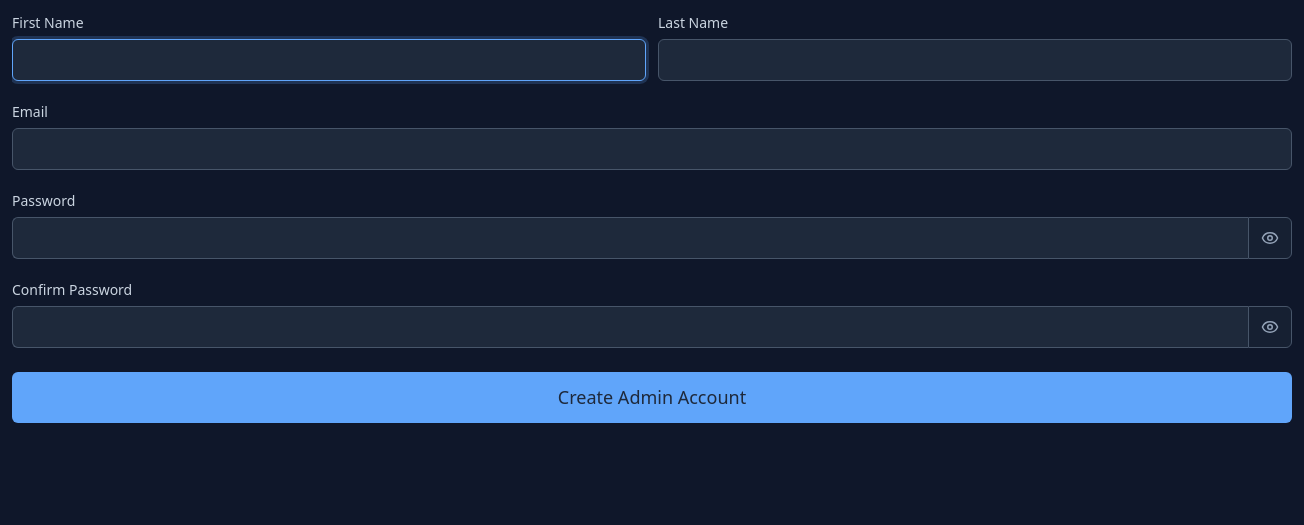
Test: SetupForm › validation › shows password error when submitted empty
Type "admin@test.com" into the field labelled "Email" at (652,149), box [12,128,1292,170]
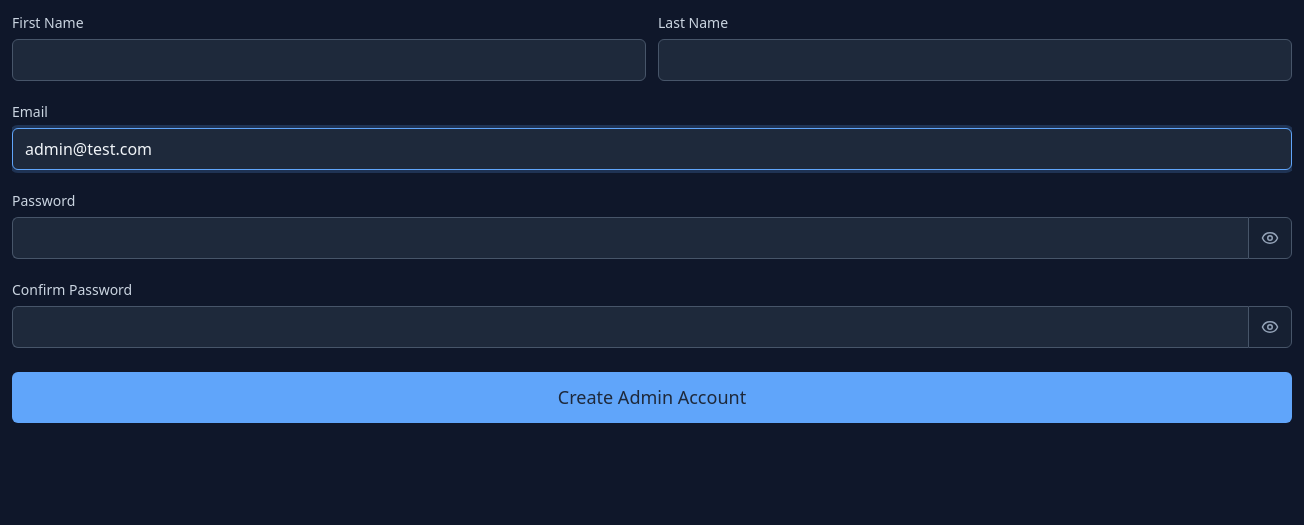
Click the button "Create Admin Account" at (652,398), box [12,372,1292,423]
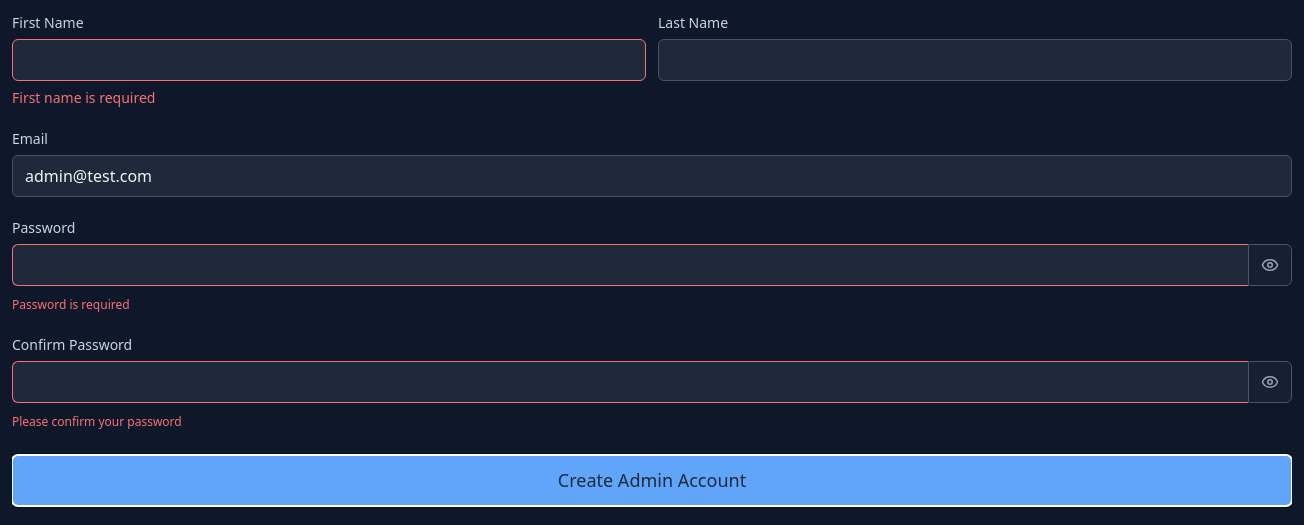
Expected: the text "Password is required" is shown, [12,296,130,313]
